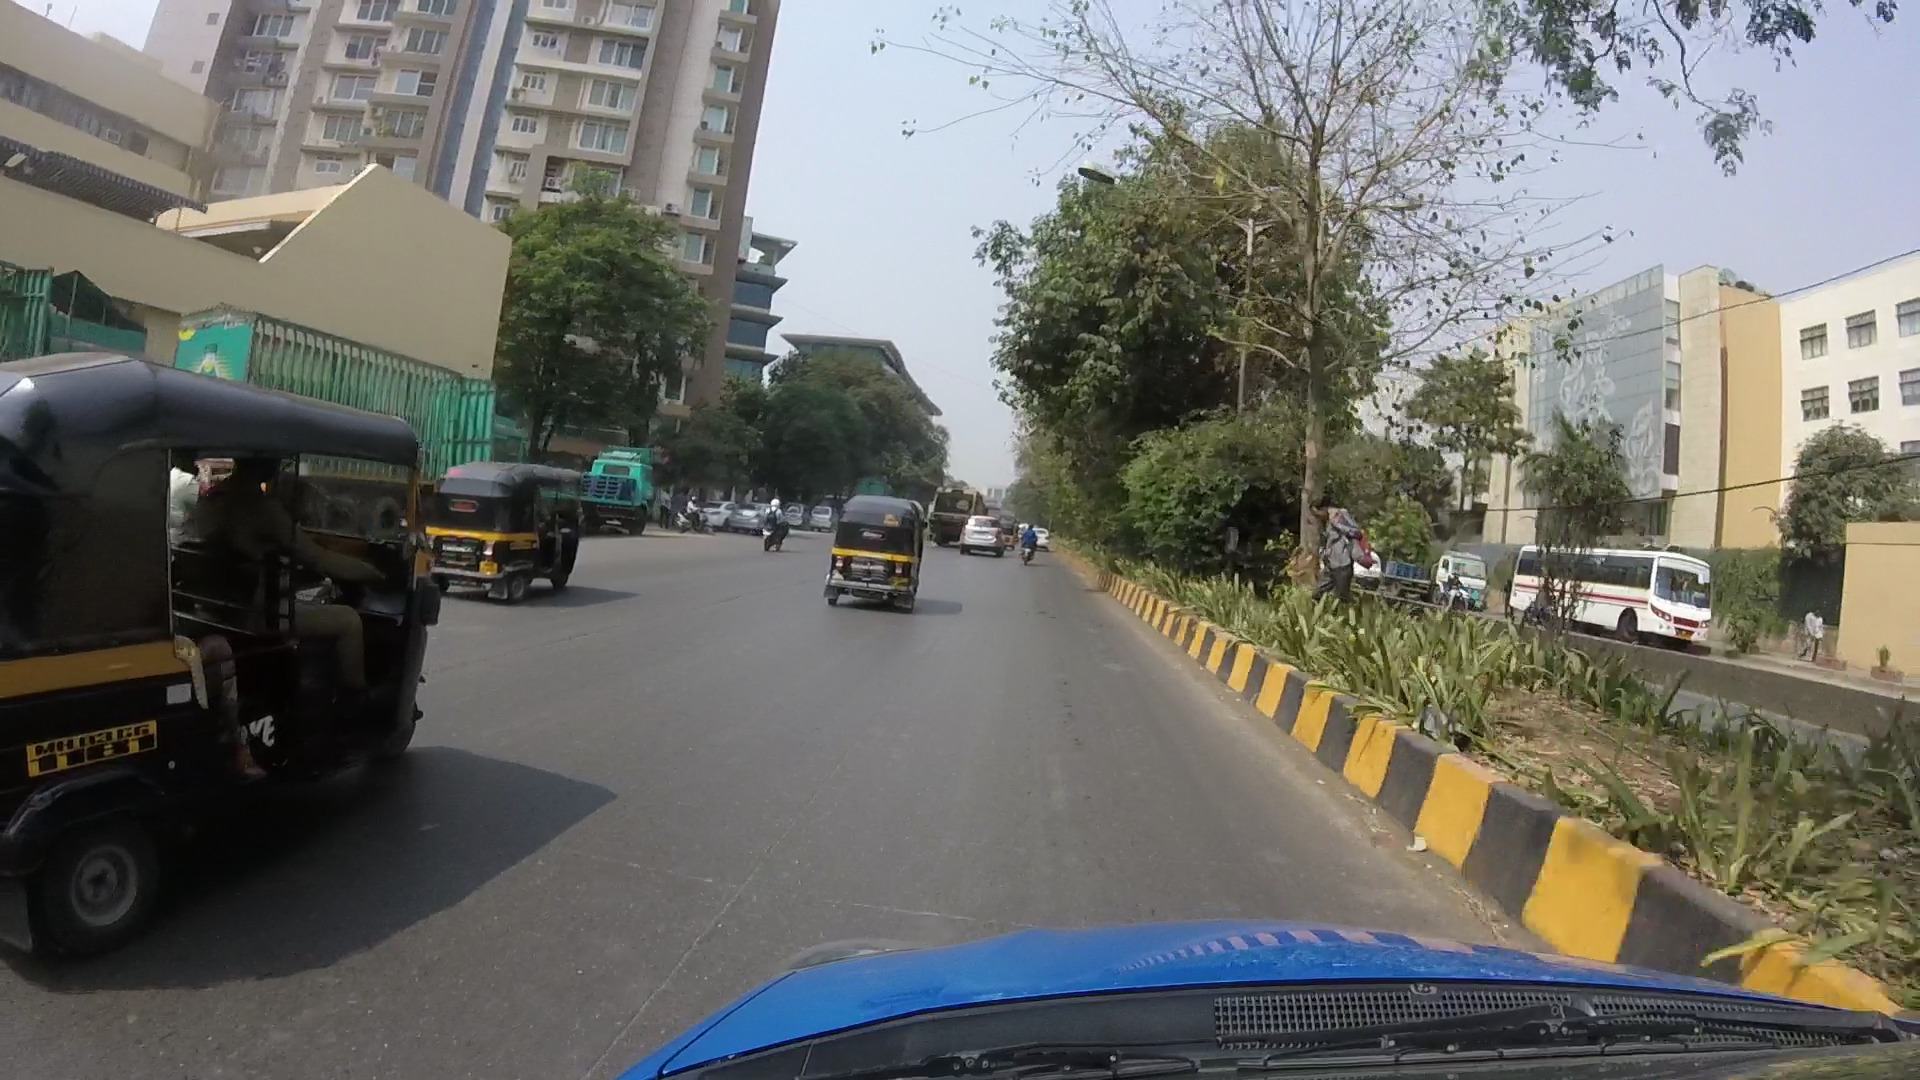bike/scooter: (761, 492, 781, 556)
bus: (1509, 545, 1716, 645)
rickshaw: (13, 363, 434, 939), (443, 460, 593, 613), (822, 498, 919, 613)
